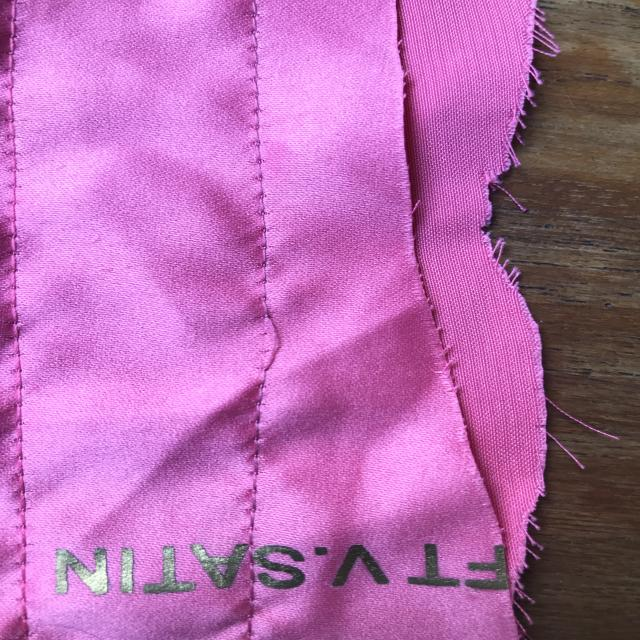skip: (236, 293, 294, 376)
